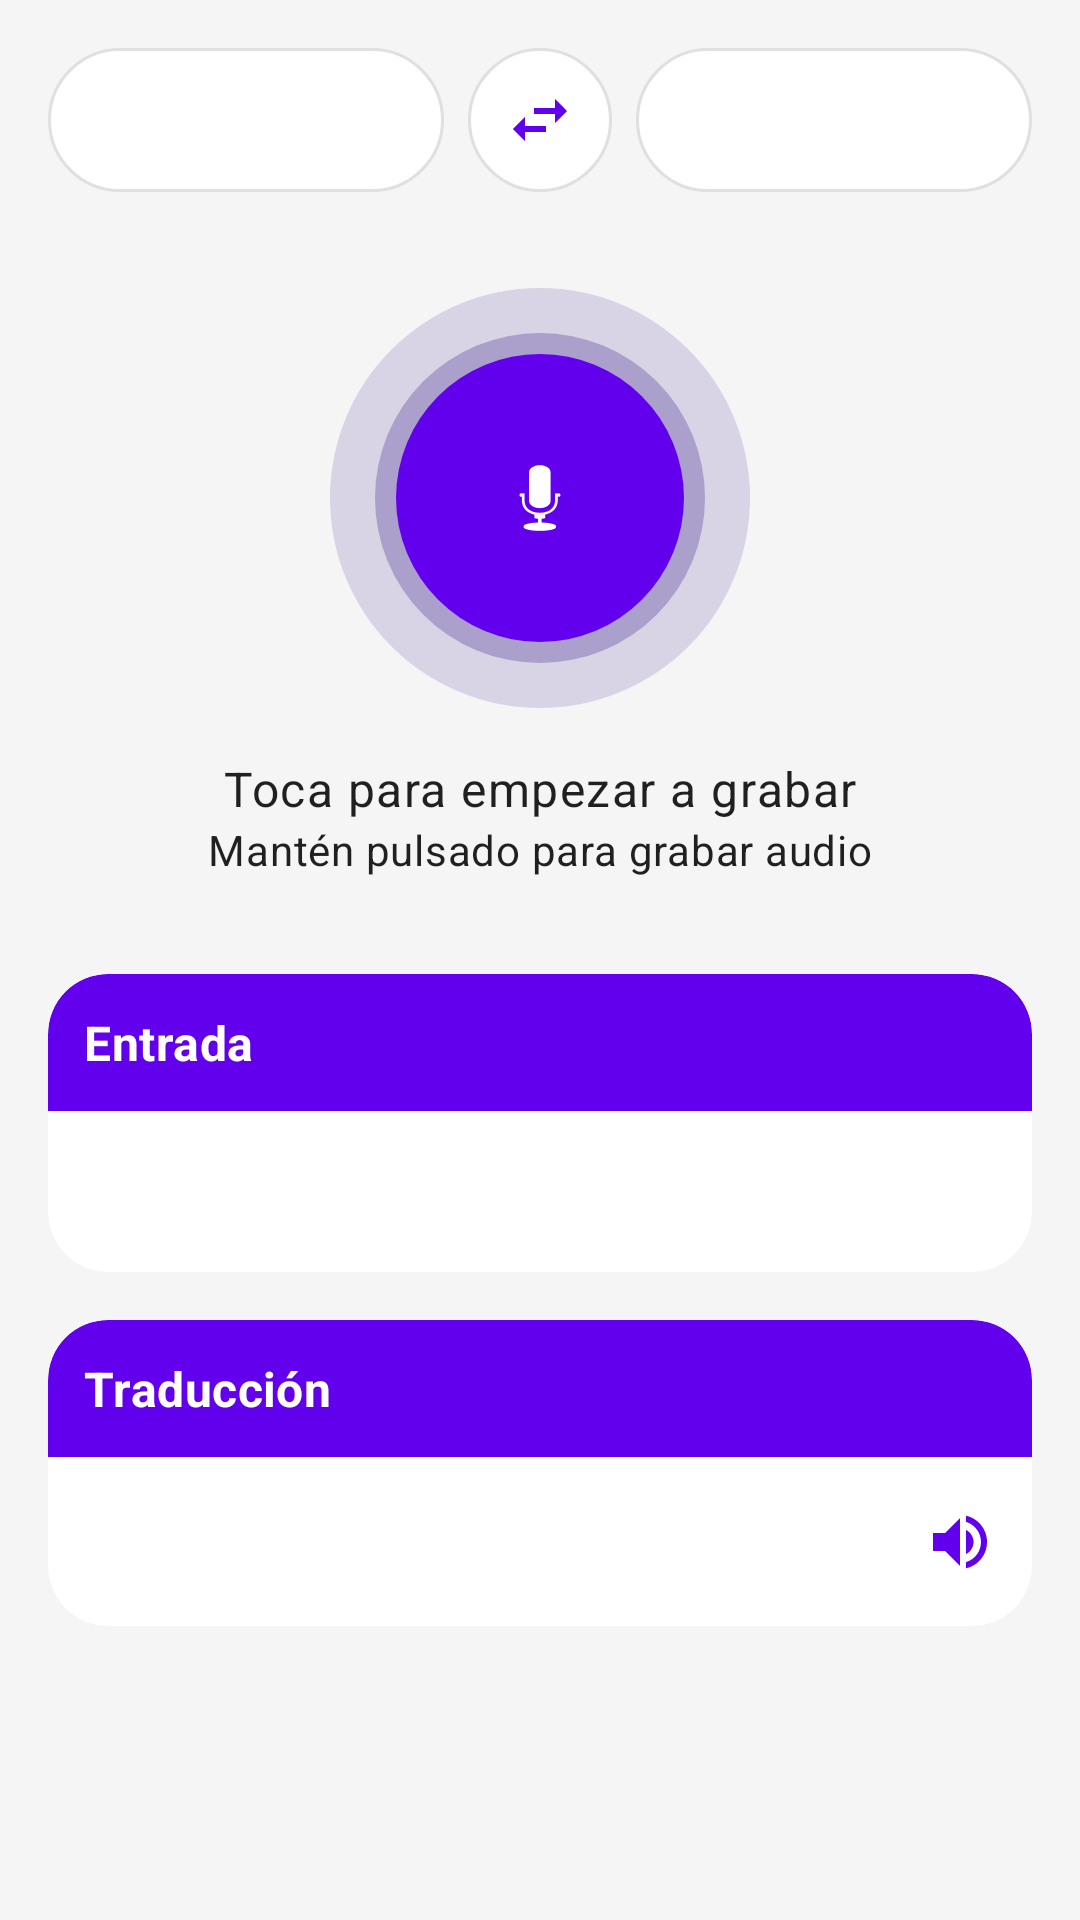

Icons on this 1080px×1920px Android screen, each with its box as bbox=[x1, y1, x2, y2]:
Speak translation: bbox=[933, 1515, 987, 1569]
Swap languages: bbox=[468, 48, 612, 192]
